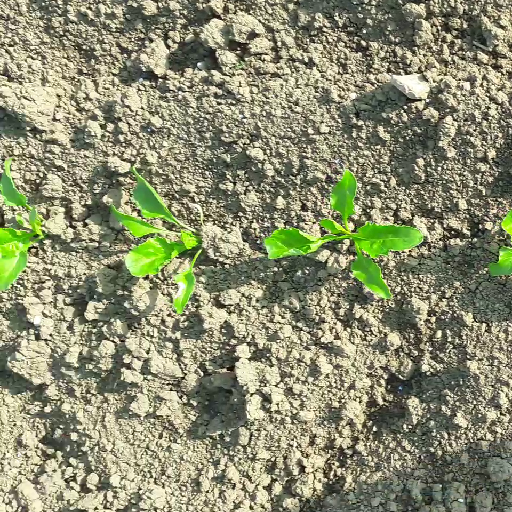sugarbeet: (261, 167, 426, 304), (100, 164, 209, 317), (1, 153, 50, 292)
weed: (233, 61, 250, 69)
